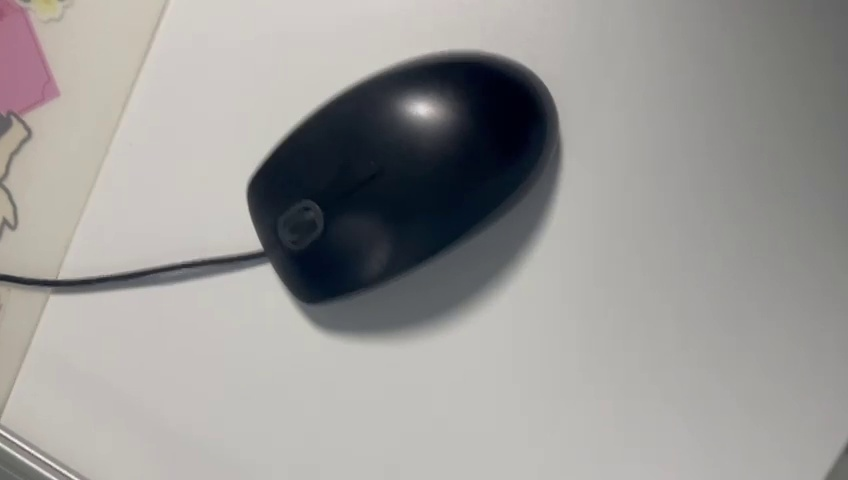objeto: (239, 42, 579, 284)
